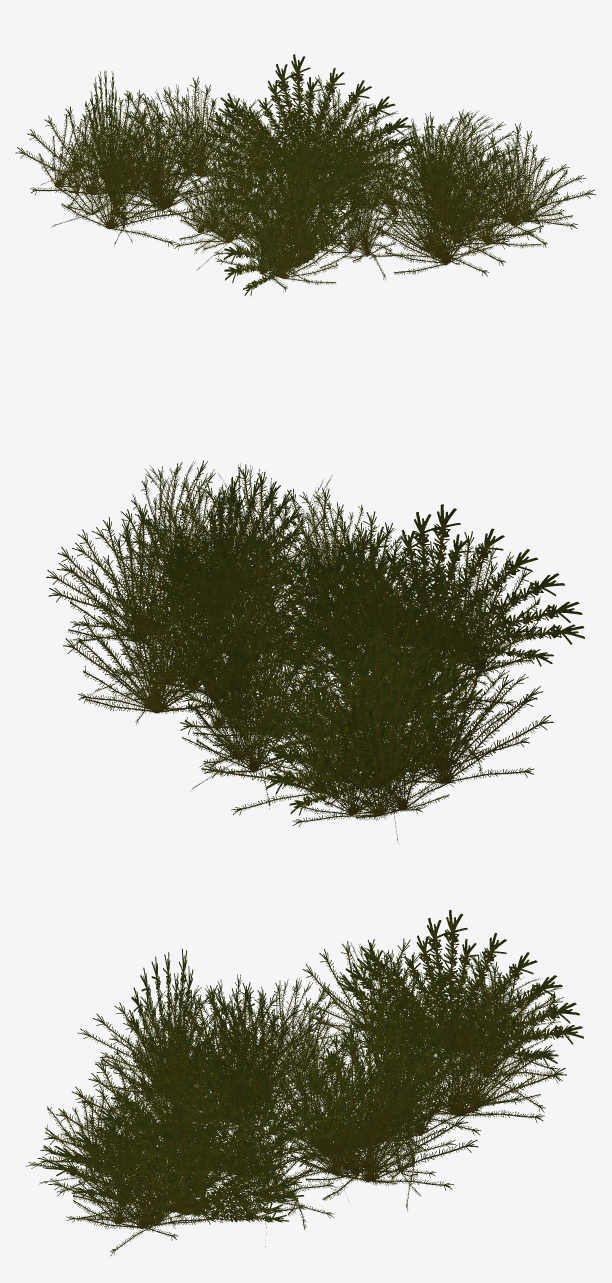
File: SM_plant_02.glb
3 views of the same model, one above another, from view 1: azimuth 30°, elevation 25°; view 2: azimuth 150°, elevation 25°; view 3: azimuth 270°, elevation 25° (orthographic). The views are drawn at different scales.
Parts seen in each view (by area): view 1: SM_plant_02; view 2: SM_plant_02; view 3: SM_plant_02.
Part boxes in pixels (box(x1,y1,x2,y2)): SM_plant_02: box(15, 54, 595, 295); SM_plant_02: box(46, 460, 584, 843); SM_plant_02: box(25, 910, 583, 1256).
Bounding box in the file's own units: 2.8 × 1.03 × 2.66.
1 material, 1 textured.
